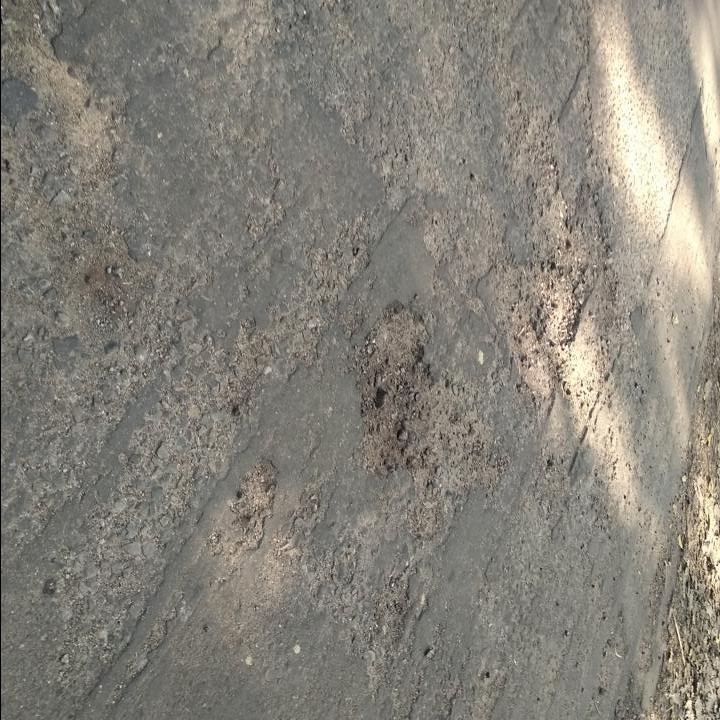pothole: (345, 298, 437, 482), (498, 256, 586, 402), (226, 454, 281, 552)
